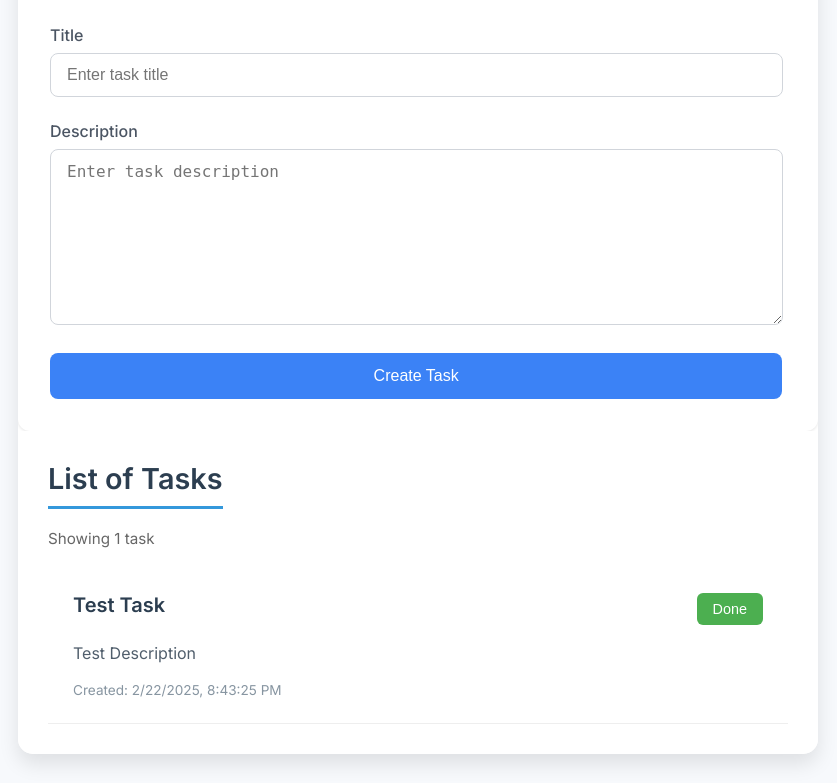
Test: App Component › handles task completion successfully
(page scrolled)
expect the heading "Test Task" is shown: met, box [73,593,165,617]
What coordinates should you click on to do the following:
click the button "Done"
I would click on:
 (730, 609)
Its box is [697,593,763,625].
(page scrolled)
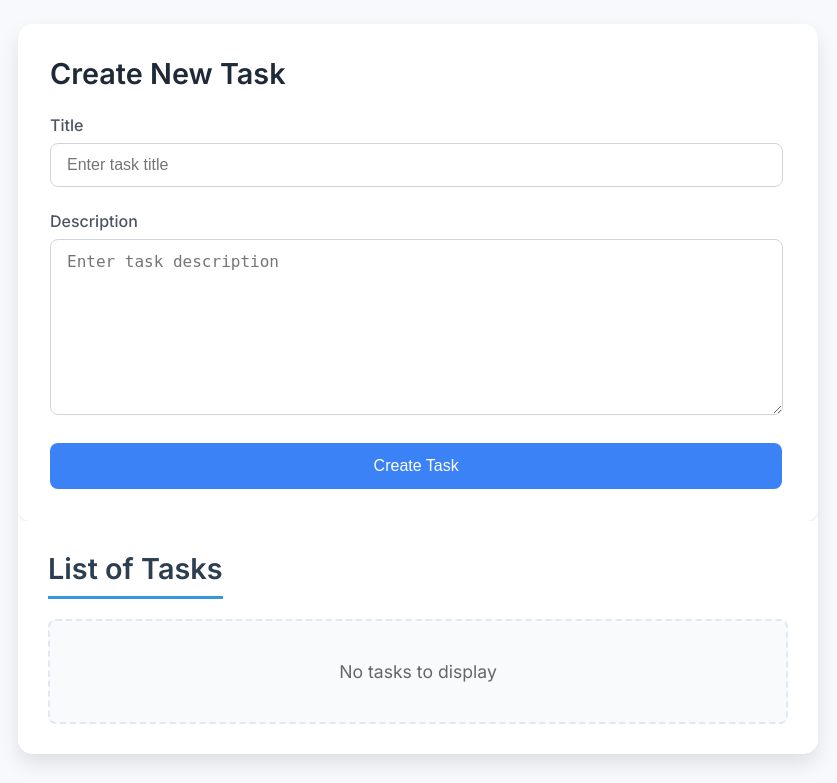
expect the heading "Test Task" is gone: met
